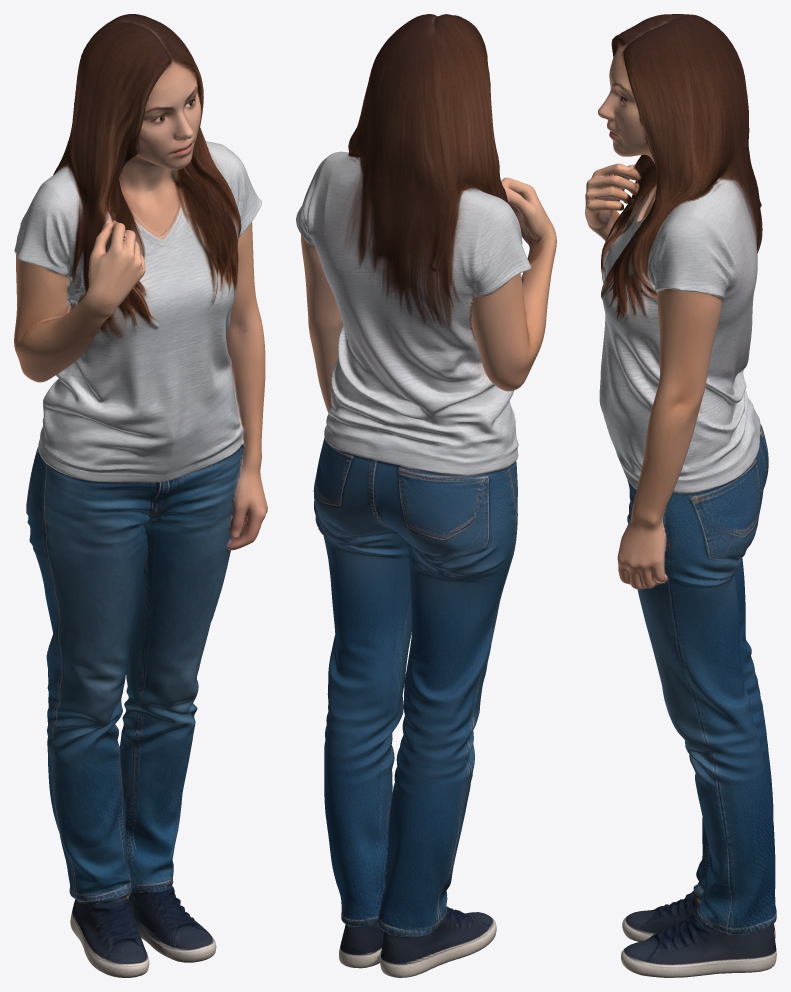
The model's file is contemplative woman in casual jeans and t-shirt-dnwzvgdn.glb.
3 renders of one model, left to right at view 1: azimuth 30°, elevation 25°; view 2: azimuth 150°, elevation 25°; view 3: azimuth 270°, elevation 25°, orthographic.
Parts seen in each view (by area): view 1: mesh_0; view 2: mesh_0; view 3: mesh_0.
Part boxes in pixels (x1,y1,x2,y2): mesh_0: (14,14,267,977); mesh_0: (296,14,556,977); mesh_0: (585,14,776,977).
Size of the model in its own units: 0.5028 by 1.9 by 0.3544.
1 material, 1 textured.
